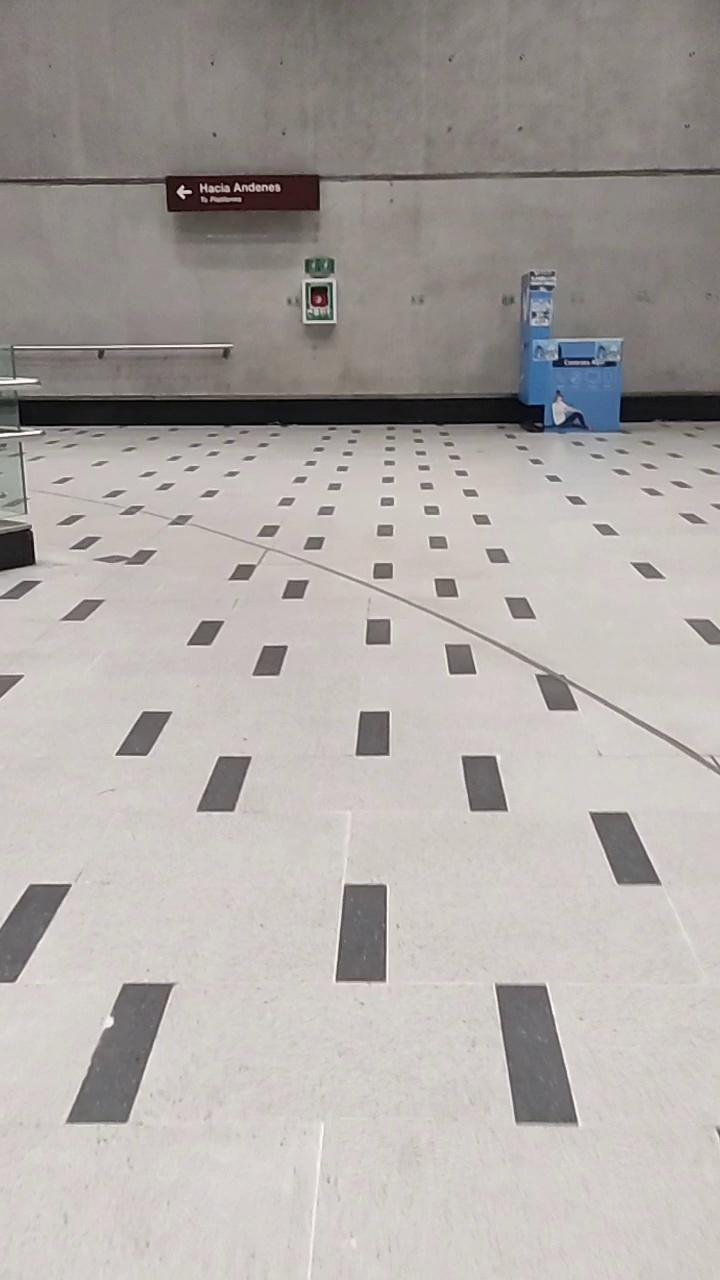left arrow: (174, 182, 199, 208)
